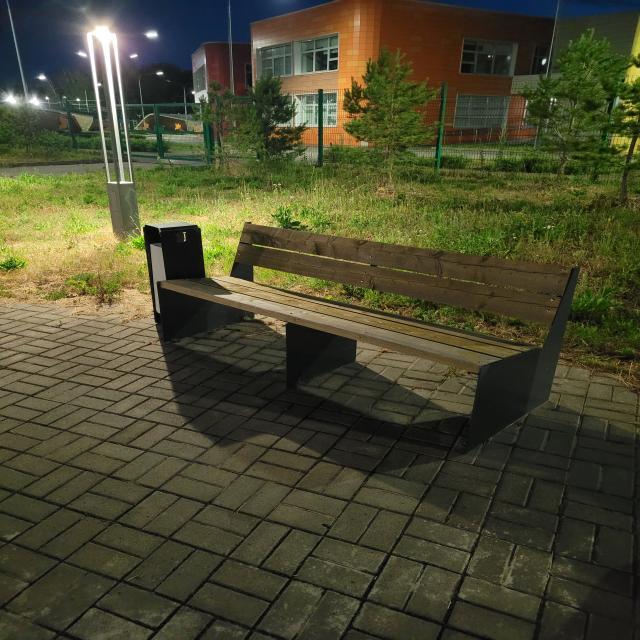Bench: (158, 222, 579, 455)
